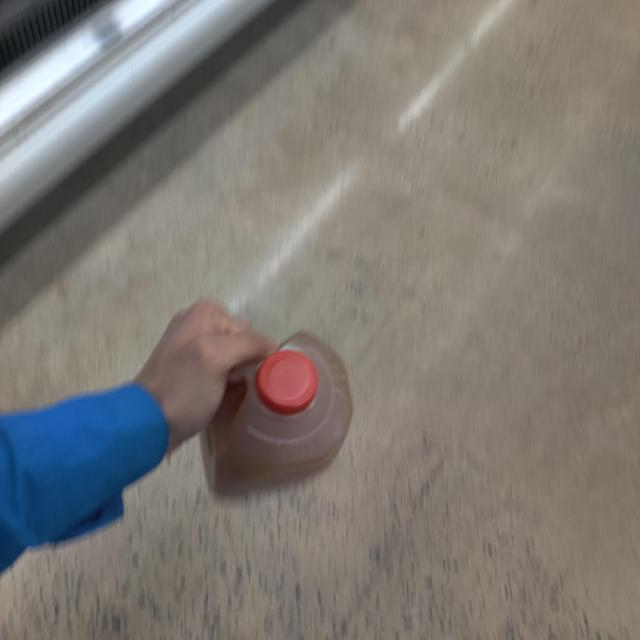Juice: (202, 335, 354, 506)
